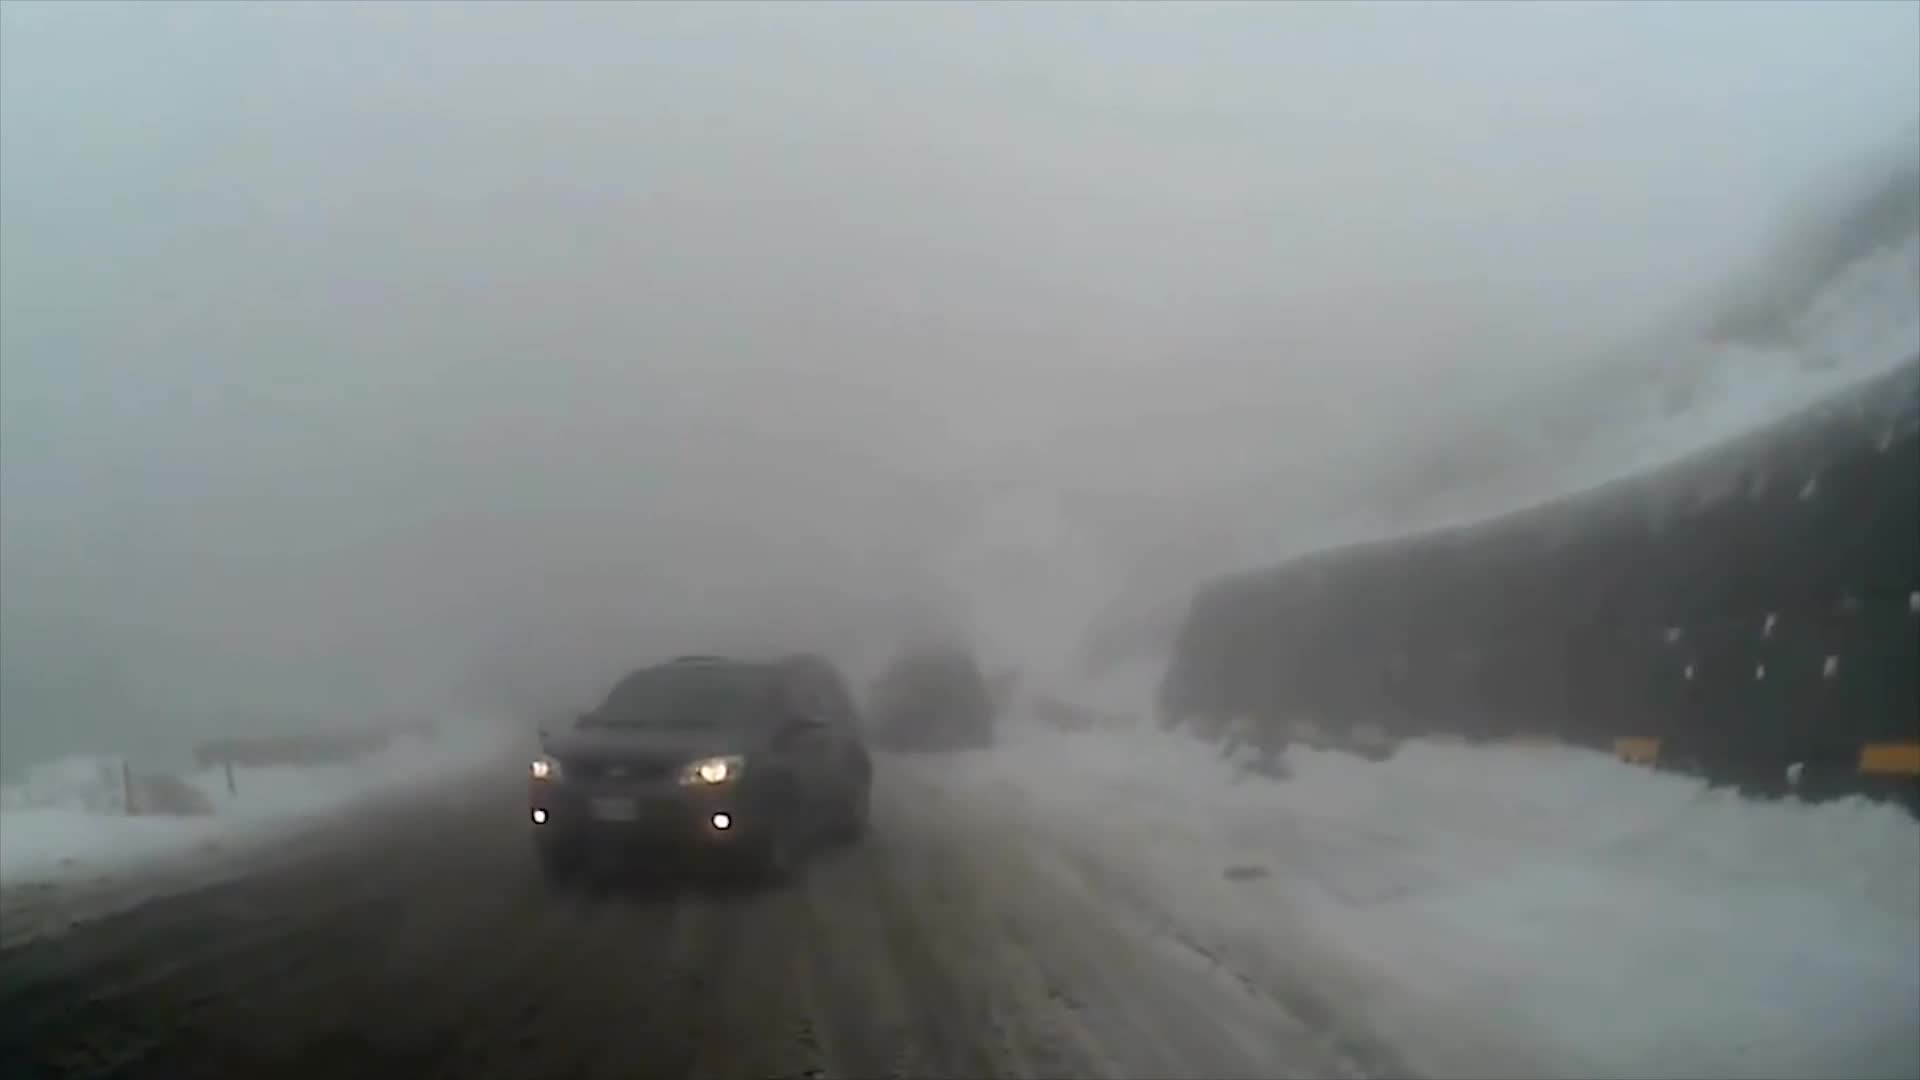vehicle: (524, 647, 876, 893), (862, 649, 990, 756)
